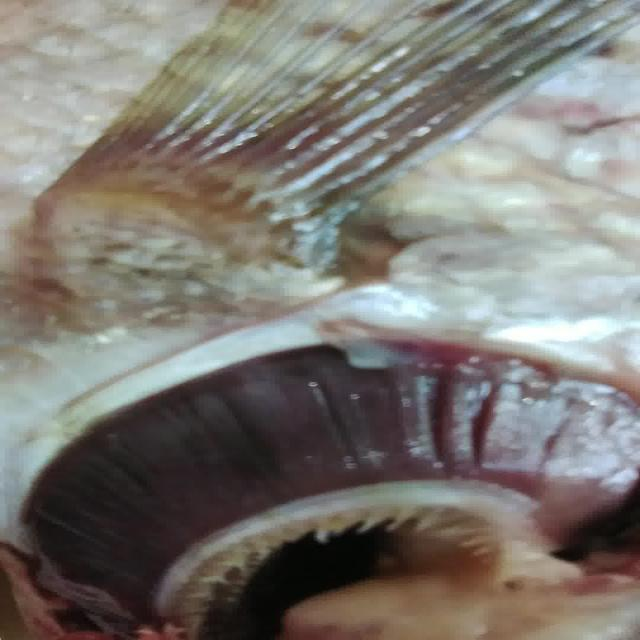Non-Fresh: (14, 306, 608, 608)
